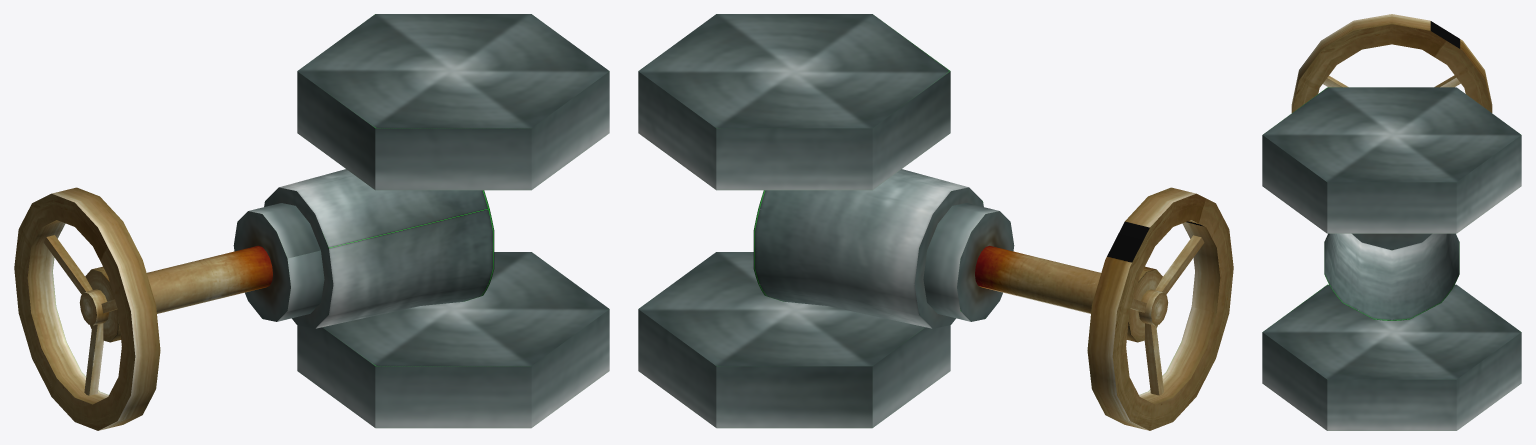
File: valvula.FBX
The picture shows the model from 3 angles, left to right: view 1: azimuth 30°, elevation 25°; view 2: azimuth 150°, elevation 25°; view 3: azimuth 270°, elevation 25°; orthographic projection. The views are drawn at different scales.
Parts seen in each view (by area): view 1: Valvula-bloqueo230; view 2: Valvula-bloqueo230; view 3: Valvula-bloqueo230.
Part boxes in pixels (left/top/right/bottom): Valvula-bloqueo230: left=14, top=14, right=609, bottom=430; Valvula-bloqueo230: left=638, top=14, right=1233, bottom=430; Valvula-bloqueo230: left=1262, top=14, right=1521, bottom=430.
Bounding box in the file's own units: 58.1 × 33.57 × 31.71.
1 material, 1 textured.
